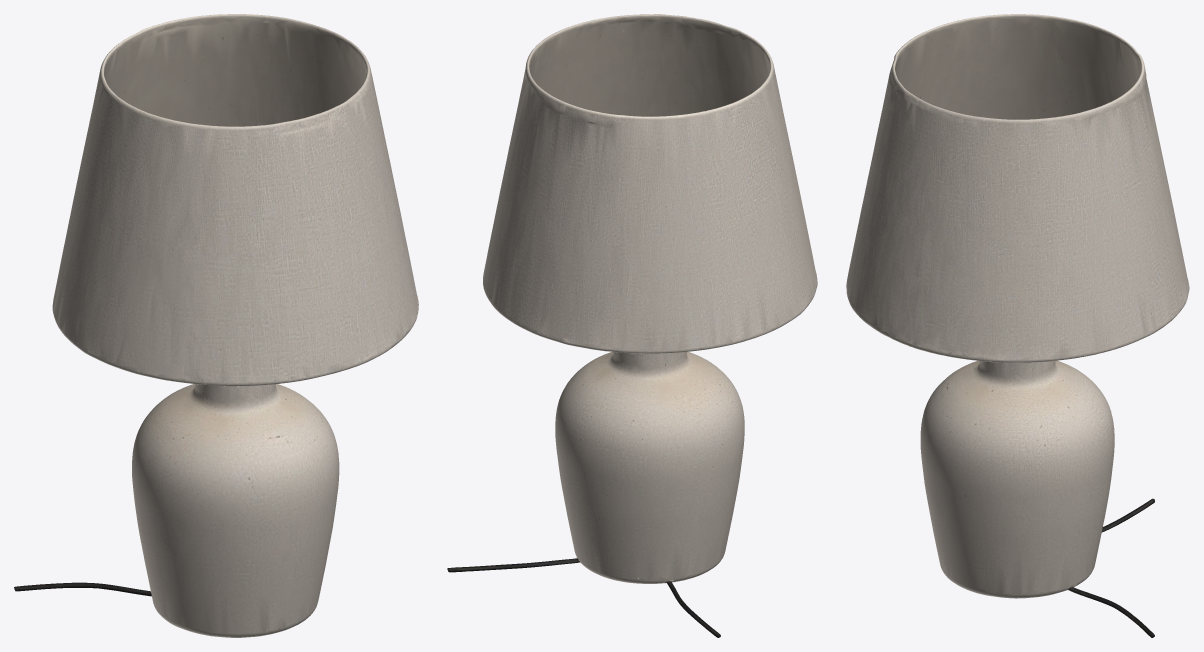
The model's file is blidvader-lamp.glb.
3 views of the same model, side by side, from view 1: azimuth 30°, elevation 25°; view 2: azimuth 150°, elevation 25°; view 3: azimuth 270°, elevation 25° (orthographic). The views are drawn at different scales.
Parts seen in each view (by area): view 1: tripo_node_5b4d8d71-7f29-43a5-af02-5242fdeff39a; view 2: tripo_node_5b4d8d71-7f29-43a5-af02-5242fdeff39a; view 3: tripo_node_5b4d8d71-7f29-43a5-af02-5242fdeff39a.
Boxes of the visible parts, bbox=[...] form: tripo_node_5b4d8d71-7f29-43a5-af02-5242fdeff39a: bbox=[14, 14, 418, 637]; tripo_node_5b4d8d71-7f29-43a5-af02-5242fdeff39a: bbox=[447, 14, 817, 637]; tripo_node_5b4d8d71-7f29-43a5-af02-5242fdeff39a: bbox=[846, 14, 1189, 637].
Bounding box in the file's own units: 0.3003 × 0.4859 × 0.3.
1 material, 1 textured.
